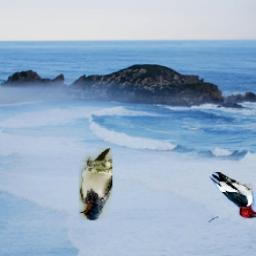Swallow: (80, 149, 114, 221)
Woodpecker: (209, 172, 256, 220)
